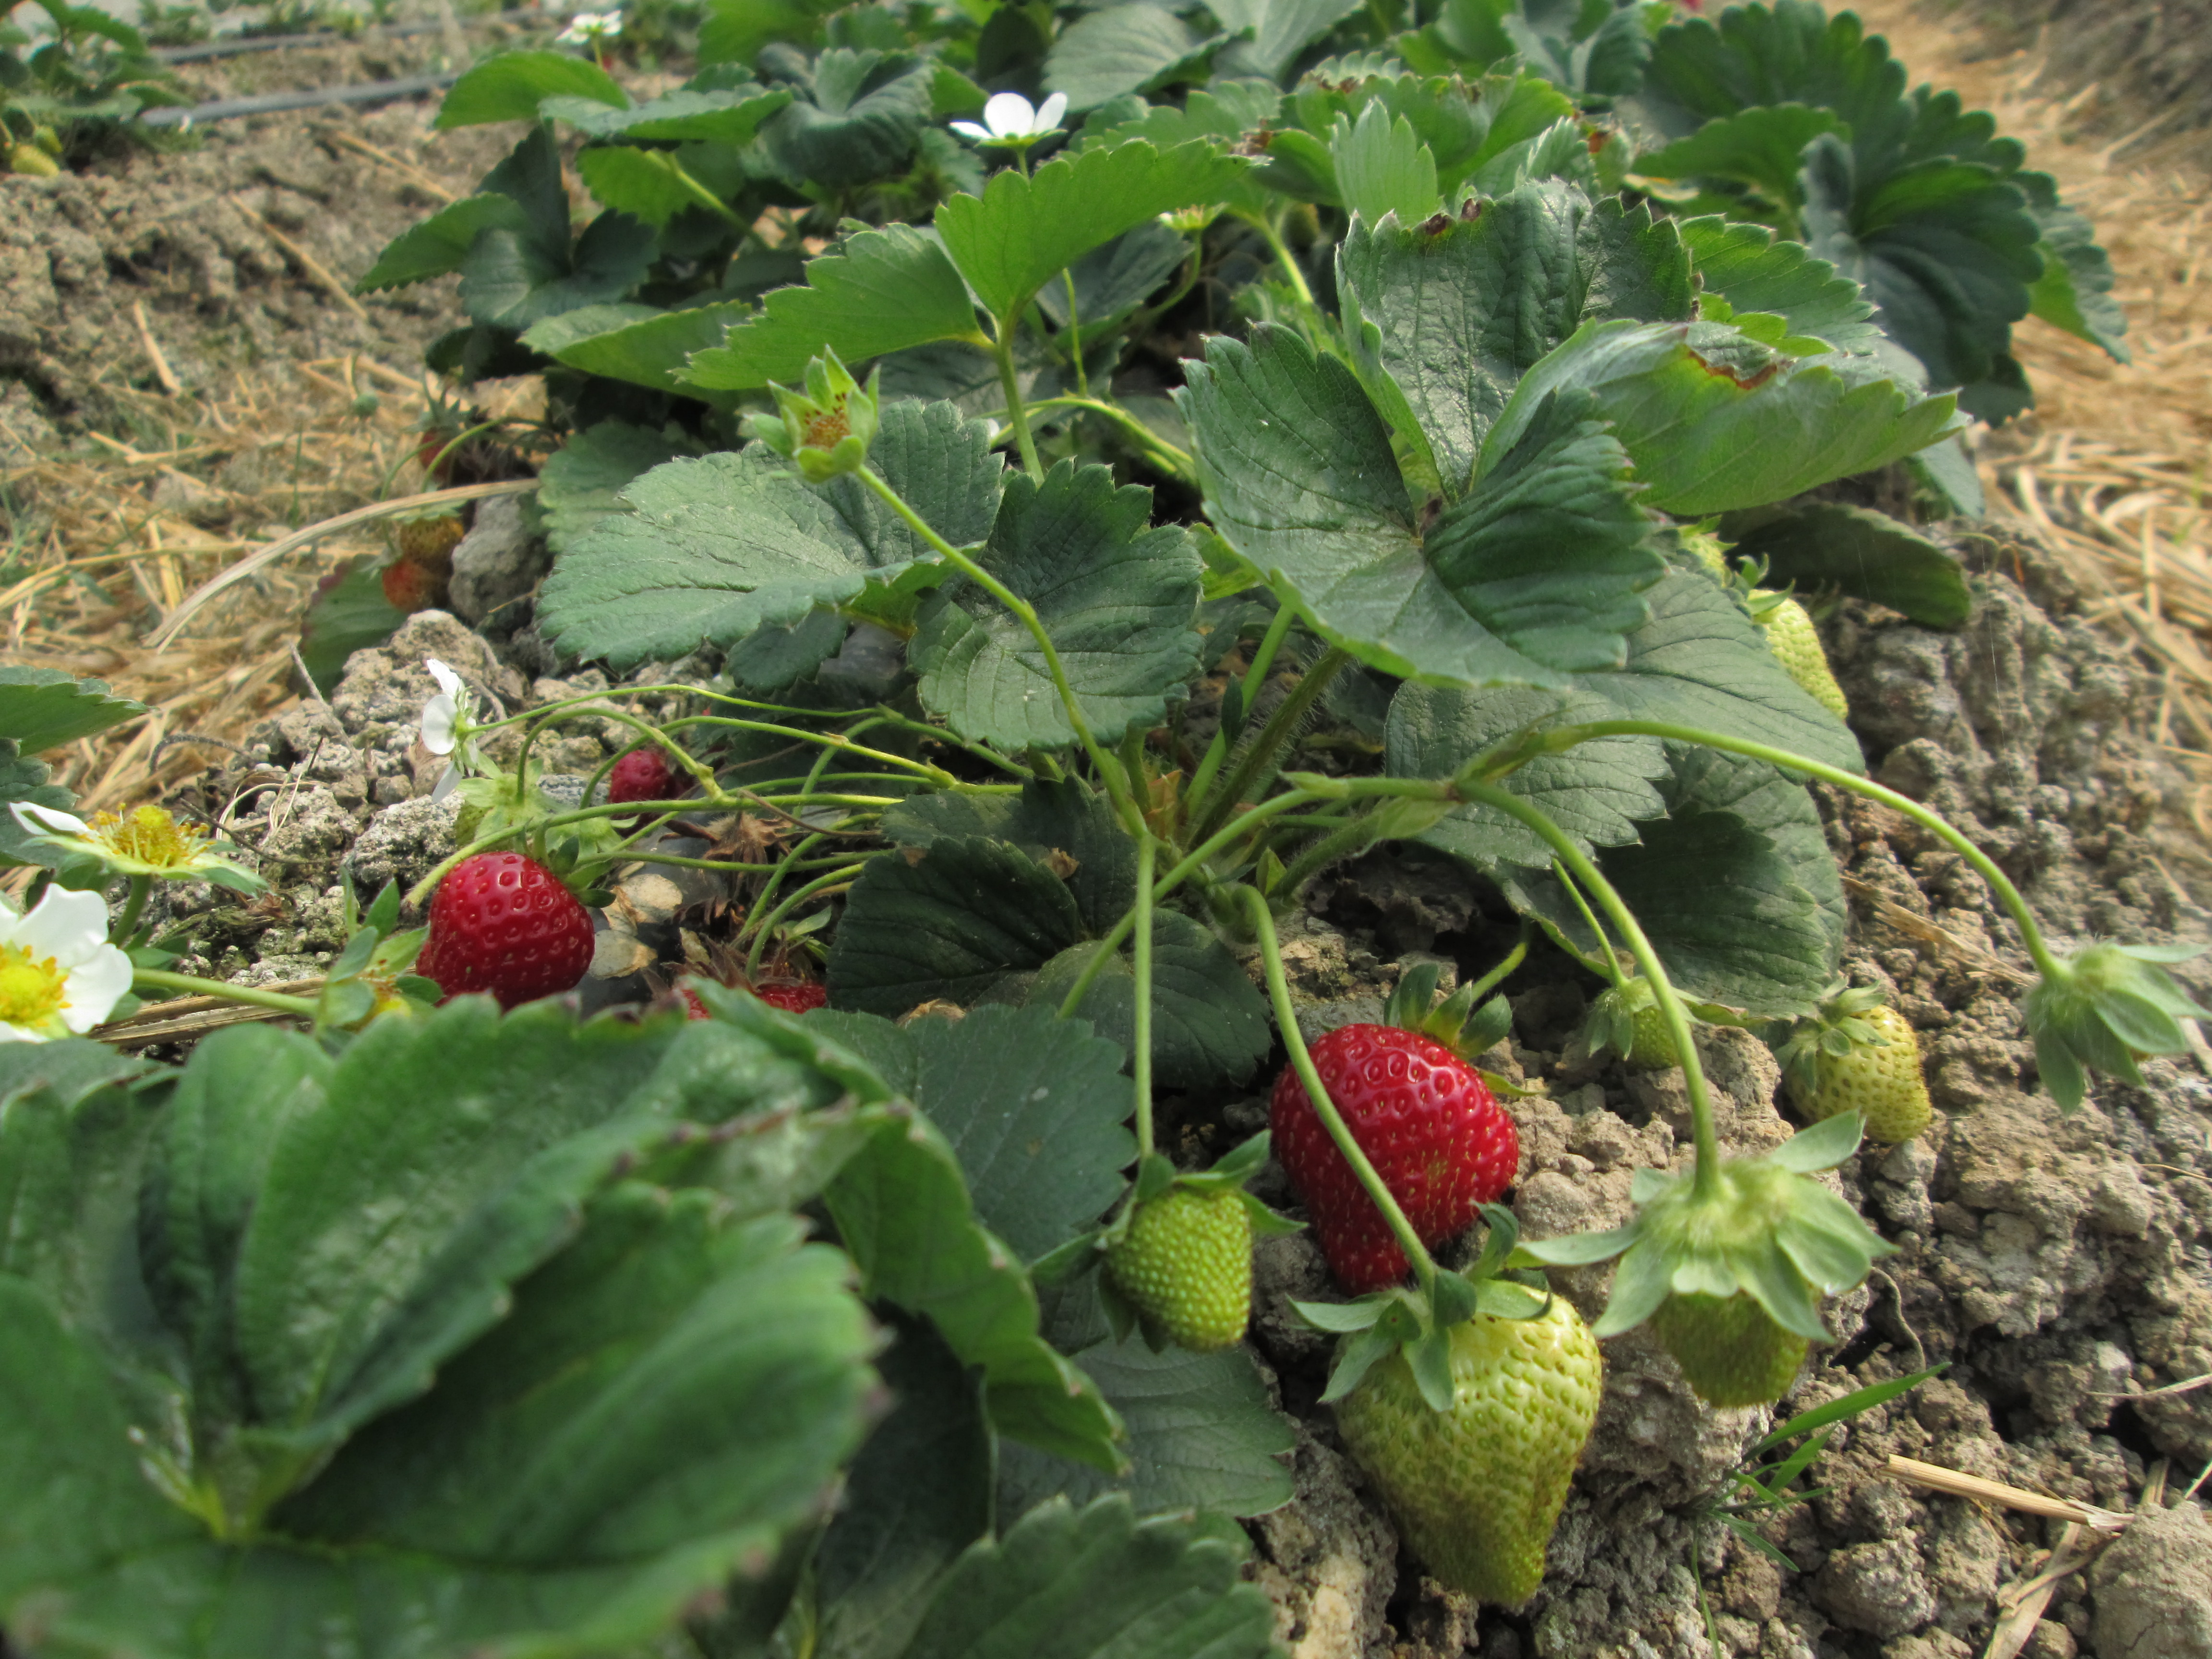StrawberryCircular: (1268, 1012, 1526, 1276)
StrawberryCone: (413, 842, 615, 1007)
StrawberryIrremovable: (1315, 1284, 1606, 1614), (1634, 1183, 1831, 1410), (1106, 1176, 1259, 1361), (1785, 990, 1937, 1152), (1726, 579, 1855, 730), (1599, 974, 1688, 1068), (449, 770, 535, 852), (392, 497, 481, 570)
StrawberryRemovable: (1271, 1016, 1524, 1276), (413, 843, 604, 1006)
